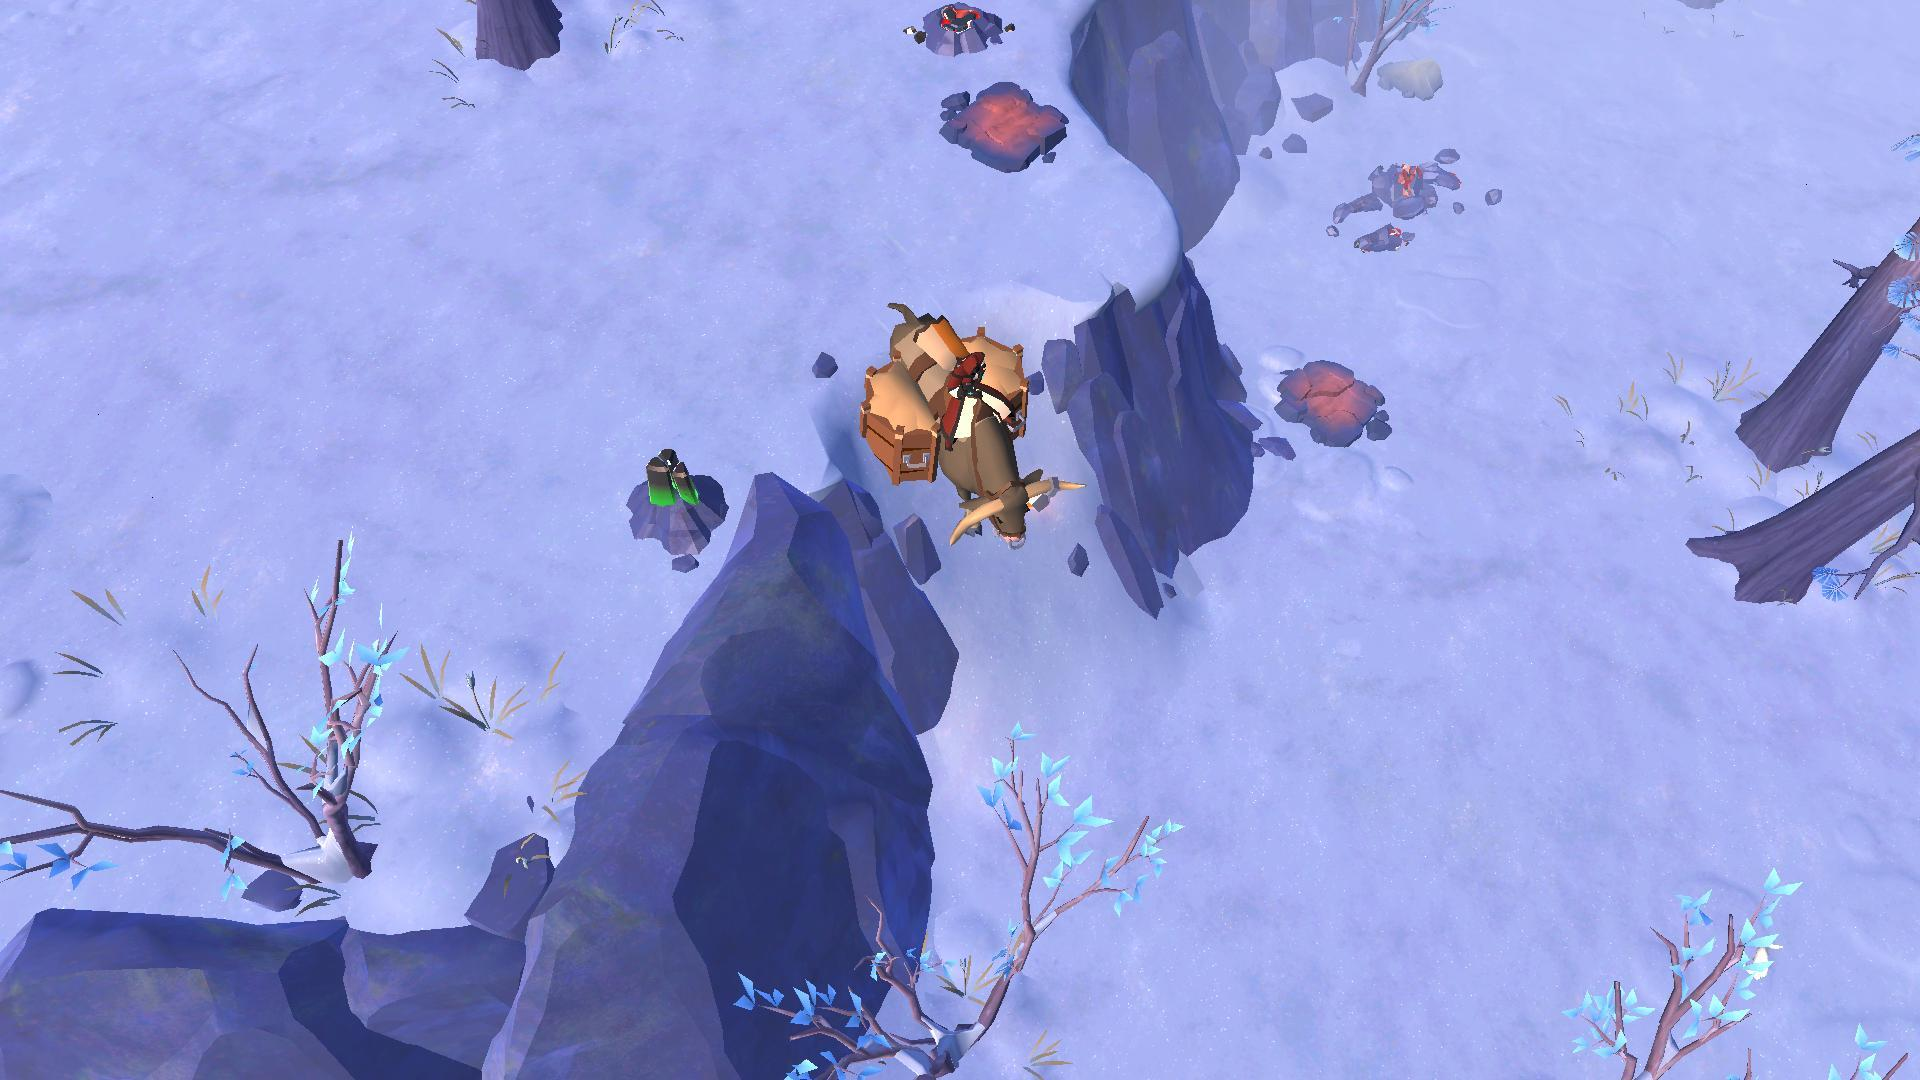ore_t3: (633, 442, 705, 512)
